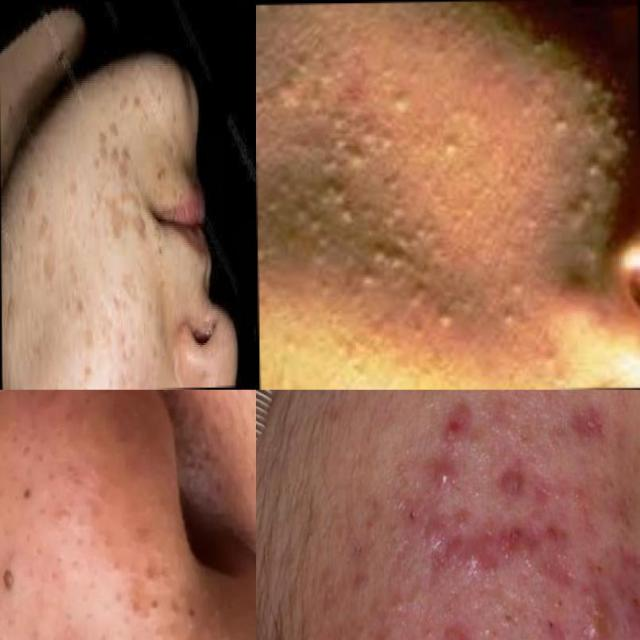8: (498, 446, 532, 509)
9: (442, 399, 474, 454), (460, 536, 492, 586), (430, 458, 460, 504)
blackheads: (496, 511, 567, 576), (576, 564, 608, 640), (566, 402, 610, 453)
dark spot: (310, 174, 423, 233), (127, 563, 216, 626), (329, 119, 396, 176), (266, 72, 336, 116), (14, 478, 46, 524), (0, 546, 22, 608), (391, 87, 424, 123), (57, 615, 103, 640), (433, 127, 466, 158)
